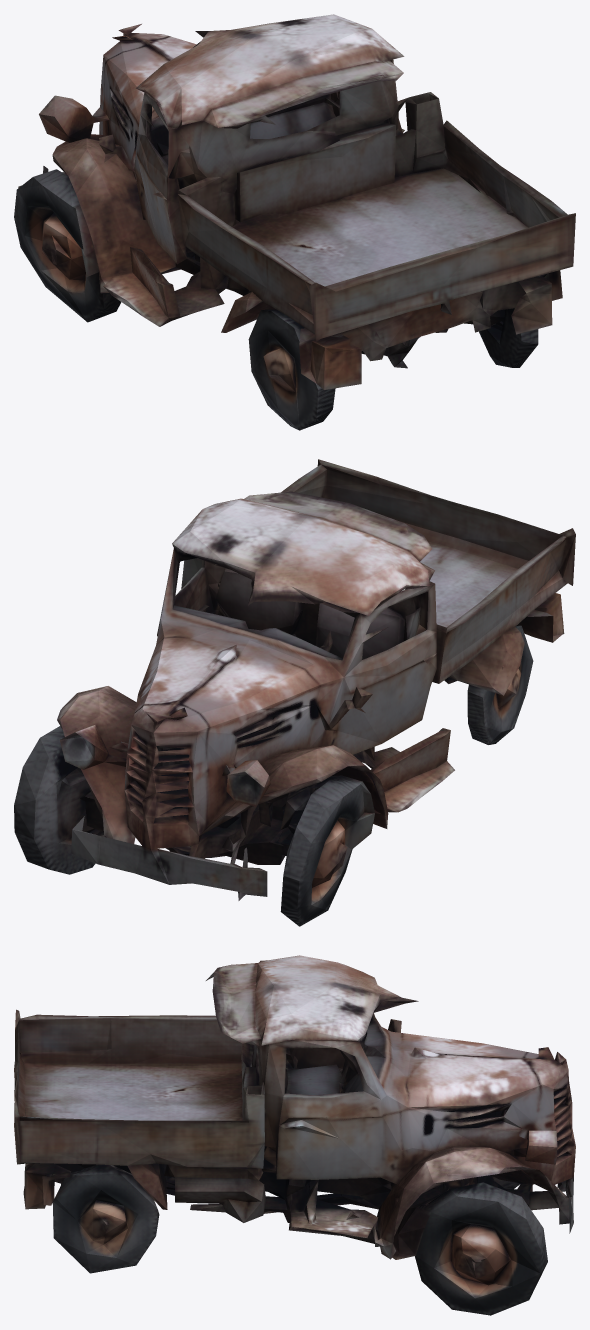
The model's file is truck.glb.
The picture shows the model from 3 angles, top to bottom: view 1: azimuth 30°, elevation 25°; view 2: azimuth 150°, elevation 25°; view 3: azimuth 270°, elevation 25°; orthographic projection. The views are drawn at different scales.
Visible parts, largest first — view 1: geometry_0; view 2: geometry_0; view 3: geometry_0.
Part boxes in pixels (bbox=[...]): geometry_0: bbox=[14, 14, 575, 430]; geometry_0: bbox=[14, 459, 575, 926]; geometry_0: bbox=[14, 955, 575, 1315].
Bounding box in the file's own units: 0.5464 × 0.5372 × 1.
1 material, 1 textured.
